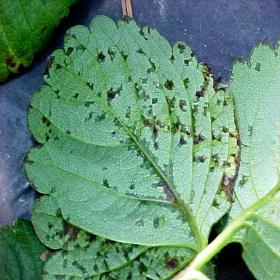Angular Leafspot: (19, 14, 242, 279), (214, 36, 279, 279)
